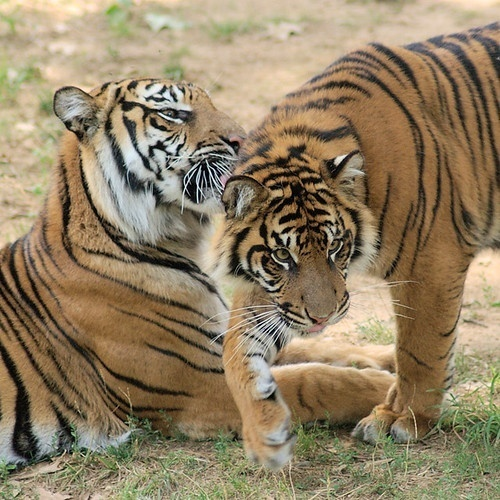tigre: (200, 11, 500, 479), (1, 62, 270, 482)
